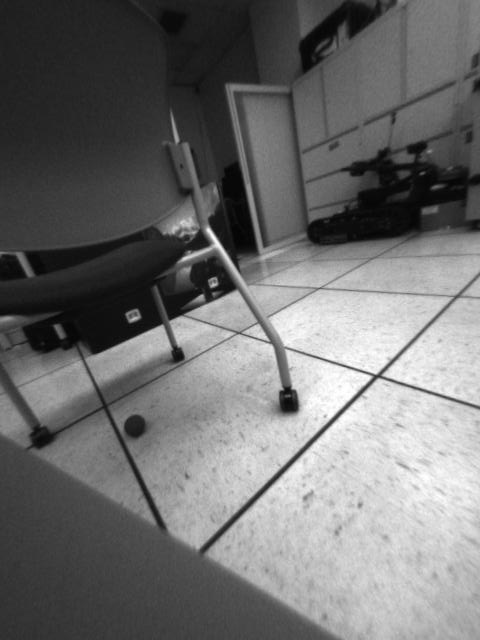dogtoy: (119, 403, 154, 445)
